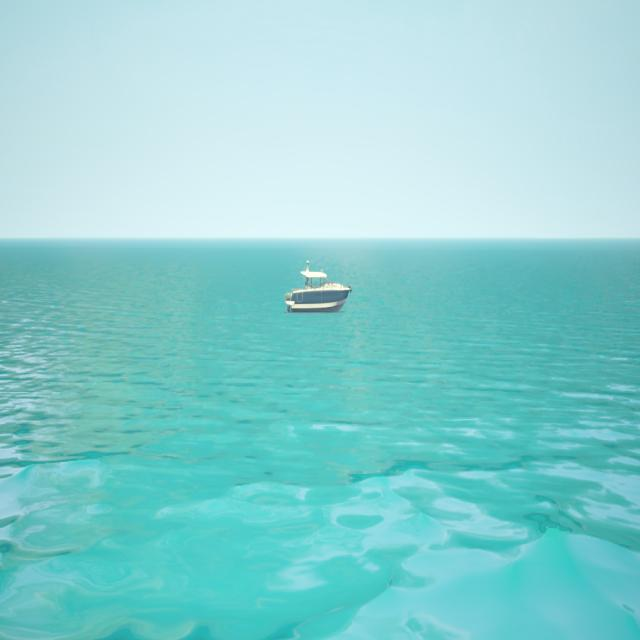ship: (285, 257, 352, 311)
